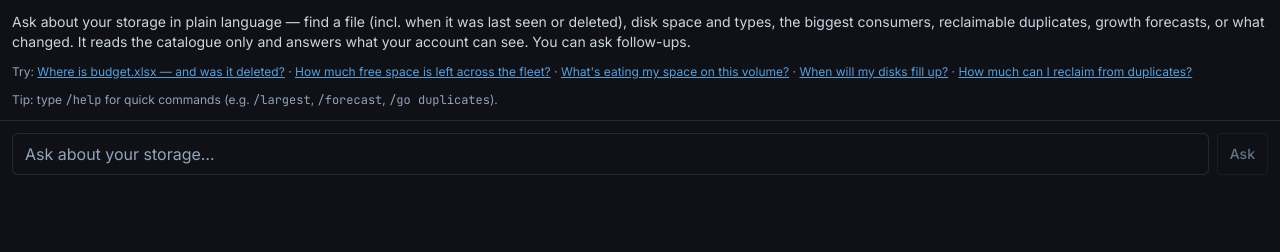
Test case: /find <text> forces a find_file tool with the text as the query
Type "/find report" into the field named "your question" at (610, 154), box [12,133,1209,175]
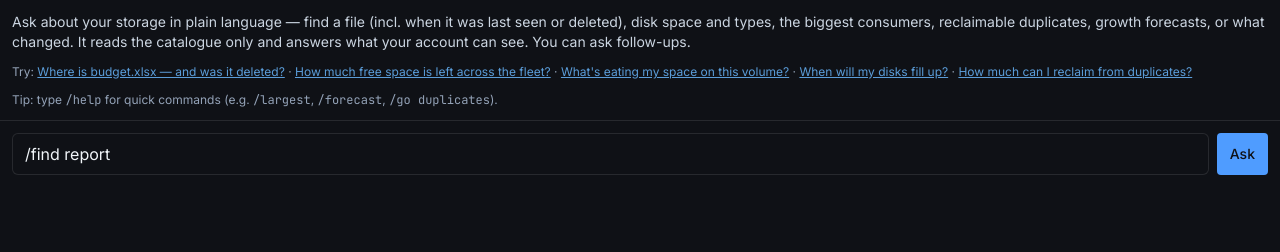
Click the button "Ask" at (1242, 154), box [1217,133,1268,175]
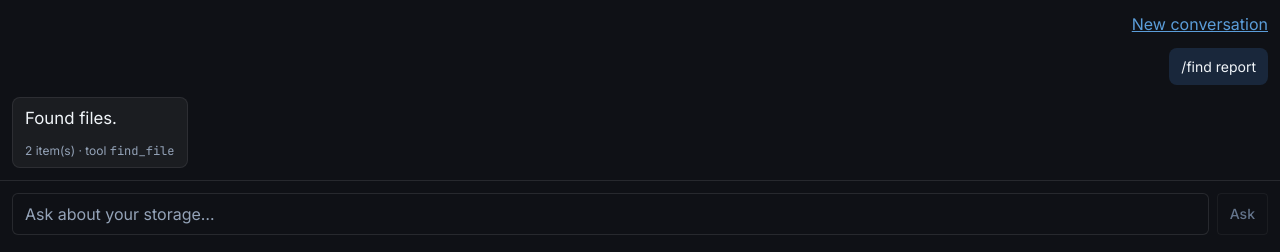
Result: the text "Found files." is shown at [25,108,117,128]
Result: the text "/find report" is shown at [1169,48,1268,85]
